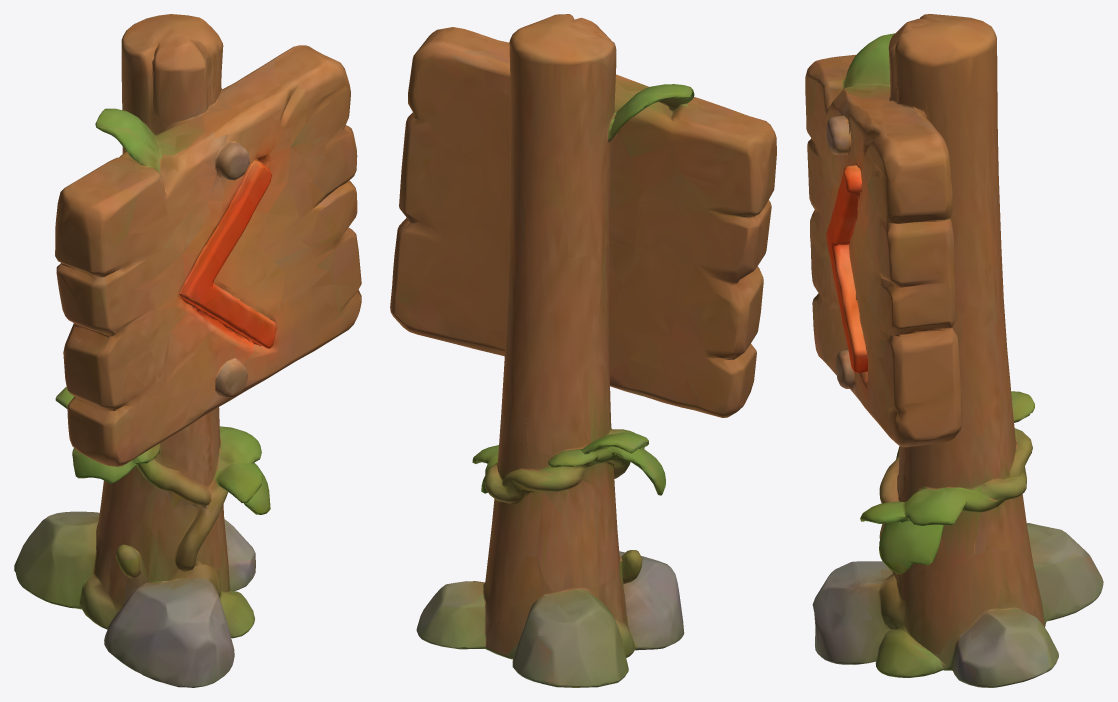
File: cartel_runa_roja.glb
The picture shows the model from 3 angles, left to right: view 1: azimuth 30°, elevation 25°; view 2: azimuth 150°, elevation 25°; view 3: azimuth 270°, elevation 25°; orthographic projection. The views are drawn at different scales.
Parts seen in each view (by area): view 1: cartel_runa_roja_malla; view 2: cartel_runa_roja_malla; view 3: cartel_runa_roja_malla.
Part boxes in pixels (<box>): cartel_runa_roja_malla: <box>14,14,361,687</box>; cartel_runa_roja_malla: <box>390,14,776,687</box>; cartel_runa_roja_malla: <box>805,14,1103,687</box>.
Size of the model in its own units: 0.1614 by 0.2906 by 0.1222.
1 material, 1 textured.
